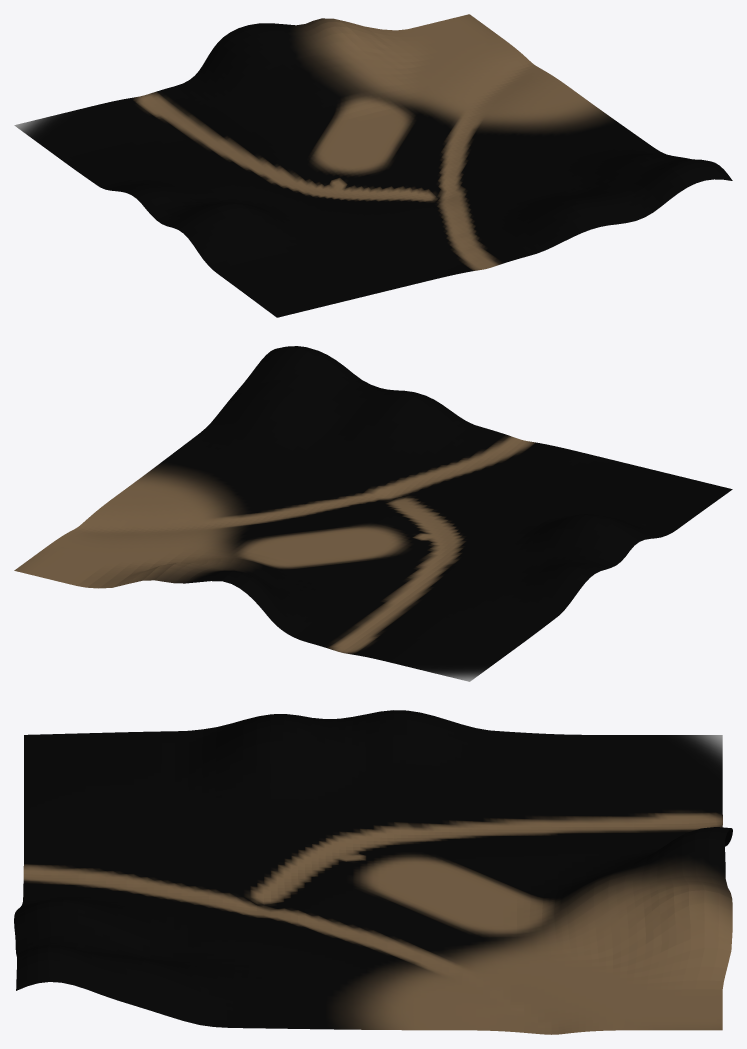
The model's file is ground.fbx.
The picture shows the model from 3 angles, top to bottom: view 1: azimuth 30°, elevation 25°; view 2: azimuth 150°, elevation 25°; view 3: azimuth 270°, elevation 25°; orthographic projection. The views are drawn at different scales.
Parts seen in each view (by area): view 1: Plane.004; view 2: Plane.004; view 3: Plane.004.
Boxes of the visible parts, x1,y1,x2,y2 form: Plane.004: (14,14,732,317); Plane.004: (14,346,732,681); Plane.004: (14,710,732,1034).
Bounding box in the file's own units: 18529 × 1923 × 18970.
